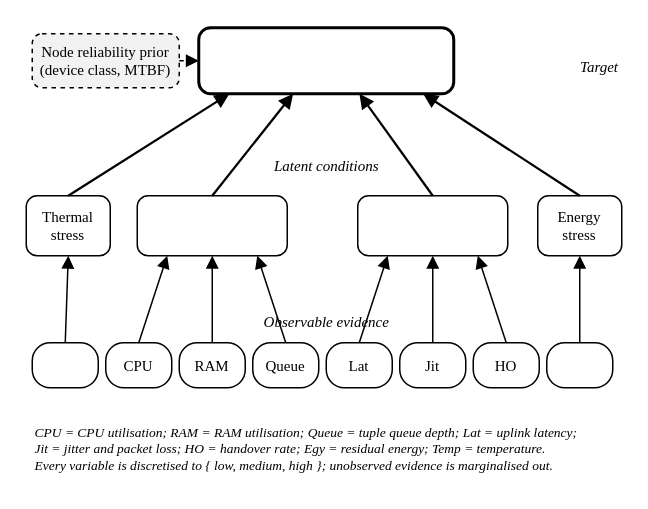
Image size: 648x509. Some labels were removed from this diagram. Each missing label, with the centre of its shape:
Computational stress: (211,225)
Egy: (579,364)
Network degradation: (432,225)
Node failure within Δt P(F = fail | e): (325,60)
Temp: (64,364)
